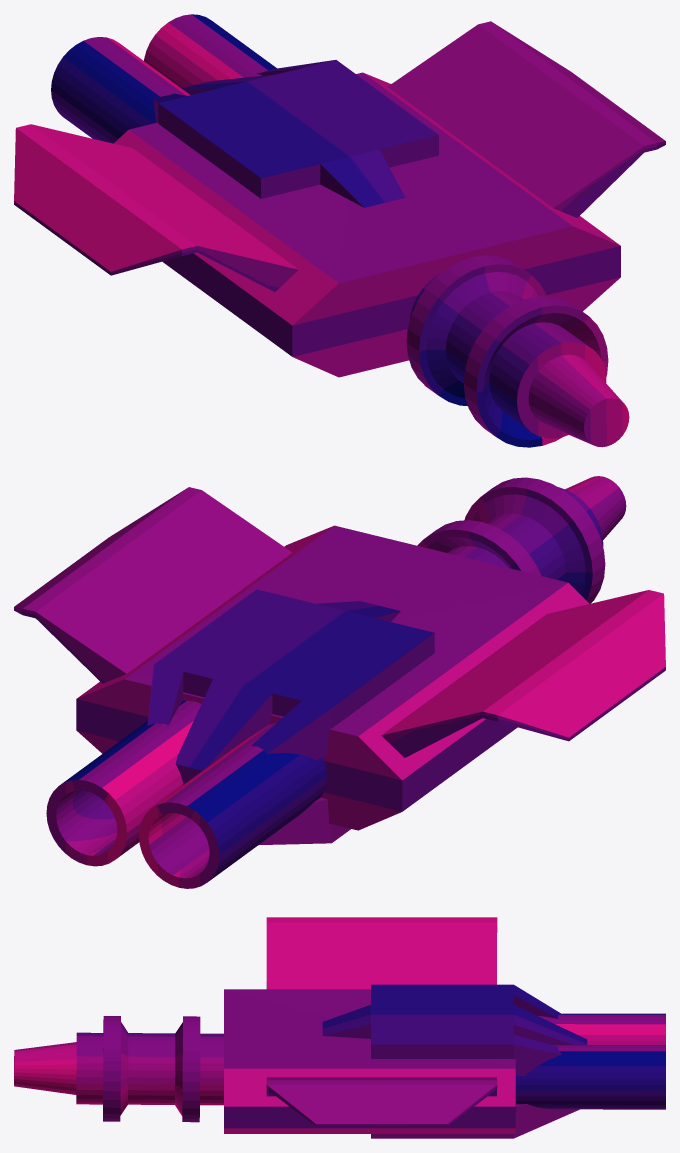
The model's file is player.glb.
The picture shows the model from 3 angles, top to bottom: view 1: azimuth 30°, elevation 25°; view 2: azimuth 150°, elevation 25°; view 3: azimuth 270°, elevation 25°; orthographic projection. The views are drawn at different scales.
Parts seen in each view (by area): view 1: Cuerpa, Alas, Arma, Motor, Caños de Escape; view 2: Alas, Cuerpa, Motor, Caños de Escape, Arma; view 3: Alas, Cuerpa, Motor, Arma, Caños de Escape.
Boxes of the visible parts, <box> form: Cuerpa: <box>114,72,620,377</box>; Alas: <box>14,21,665,291</box>; Arma: <box>406,255,629,447</box>; Motor: <box>153,60,438,207</box>; Caños de Escape: <box>51,14,276,143</box>; Alas: <box>14,487,665,757</box>; Cuerpa: <box>76,525,589,830</box>; Motor: <box>147,589,434,845</box>; Caños de Escape: <box>46,700,326,888</box>; Arma: <box>417,476,626,603</box>; Alas: <box>266,917,497,1126</box>; Cuerpa: <box>224,989,515,1133</box>; Motor: <box>322,984,587,1138</box>; Arma: <box>14,1016,223,1122</box>; Caños de Escape: <box>516,1013,665,1109</box>.
Size of the model in its own units: 2.28 by 0.6656 by 3.34.
Materials: 1 (1 with a texture image).
